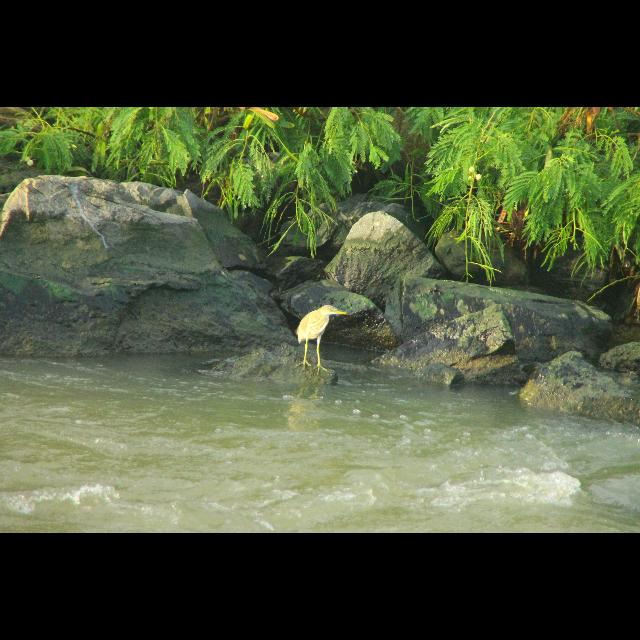heron: (294, 304, 348, 374)
